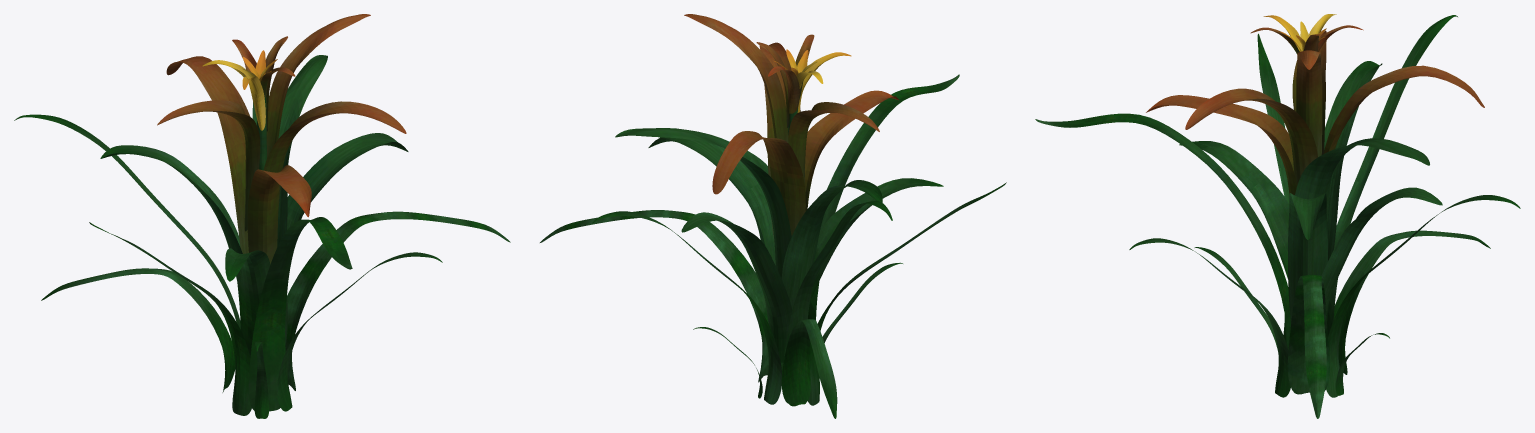
Rendered from bromelia.glb.
3 renders of one model, left to right at view 1: azimuth 30°, elevation 25°; view 2: azimuth 150°, elevation 25°; view 3: azimuth 270°, elevation 25°, orthographic. The views are drawn at different scales.
Visible parts, largest first — view 1: Bromelia; view 2: Bromelia; view 3: Bromelia.
Part boxes in pixels (x1=…): Bromelia: x1=14, y1=14, x2=510, y2=418; Bromelia: x1=540, y1=14, x2=1006, y2=418; Bromelia: x1=1035, y1=14, x2=1520, y2=418.
Bounding box in the file's own units: 2.08 × 1.62 × 1.87.
Materials: 3 (3 with a texture image).
